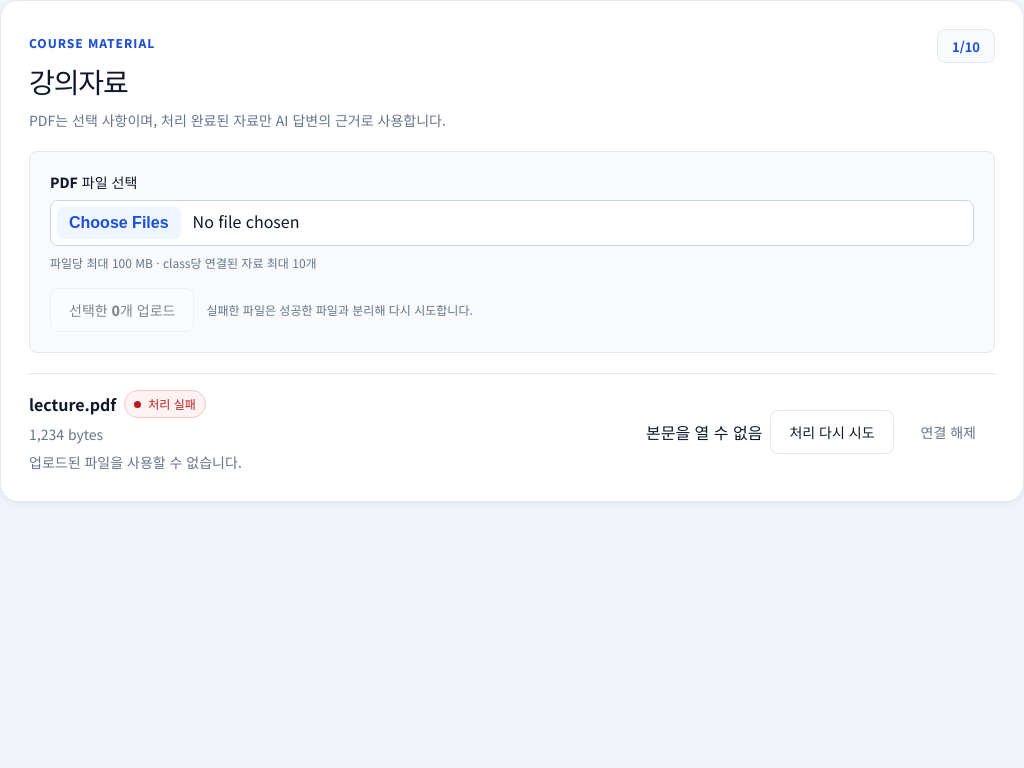
Test: MaterialPanel › retries a failed Material job with the same idempotency key
Click the button "처리 다시 시도".
click(832, 432)  # box left=770, top=410, right=894, bottom=454
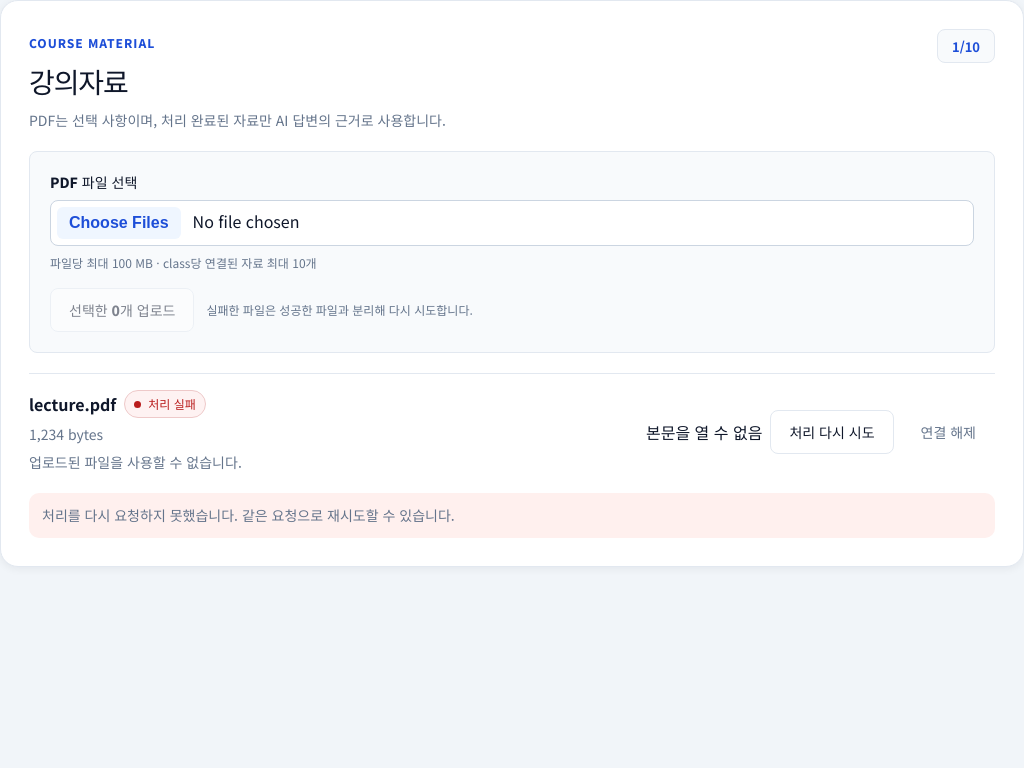
Check: the text "처리를 다시 요청하지 못했습니다. 같은 요청으로 재시도할 수 있습니다." is shown, box left=29, top=493, right=995, bottom=538
Click the button "처리 다시 시도".
click(832, 432)  # box left=770, top=410, right=894, bottom=454
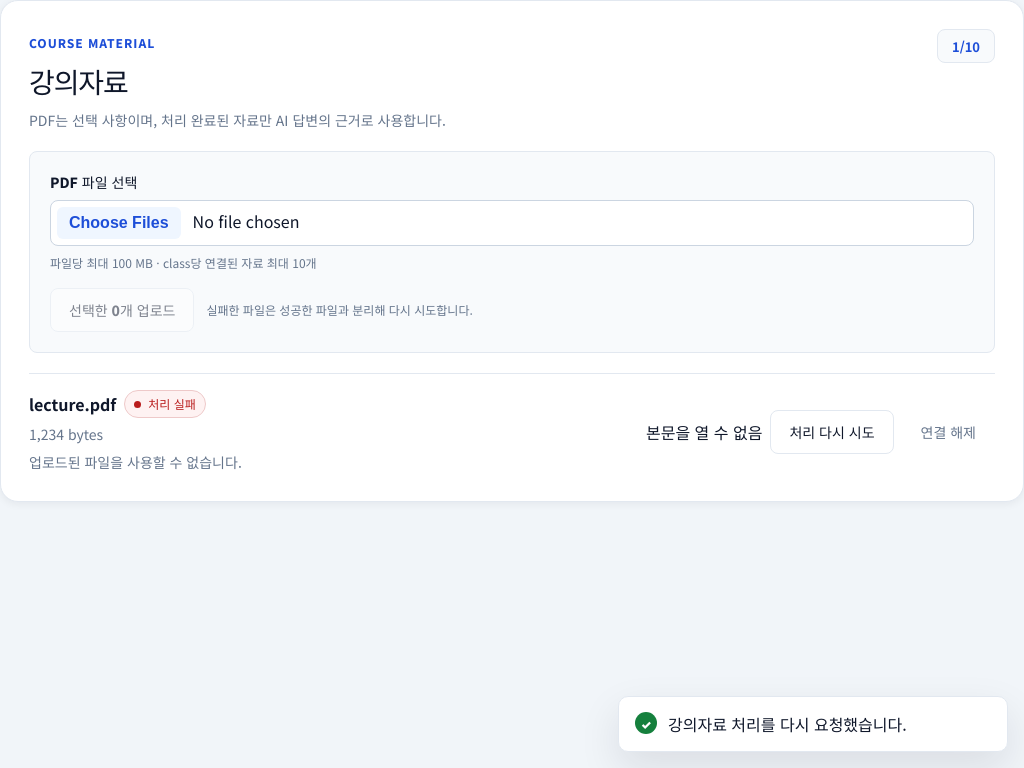
Check: the text "강의자료 처리를 다시 요청했습니다." is shown, box left=668, top=712, right=907, bottom=736
